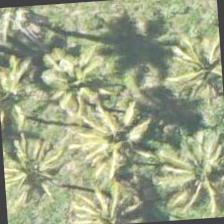Kelapa_Sawit: (58, 86, 154, 182), (16, 28, 112, 124), (0, 116, 74, 210), (151, 8, 223, 102), (158, 132, 223, 221), (48, 169, 142, 223)
